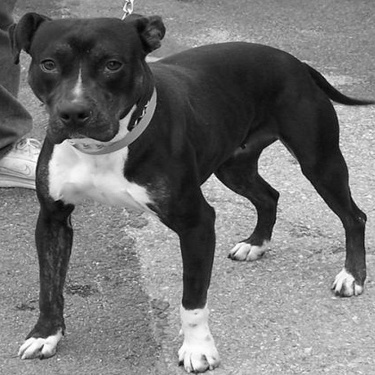dog: (3, 9, 371, 374)
